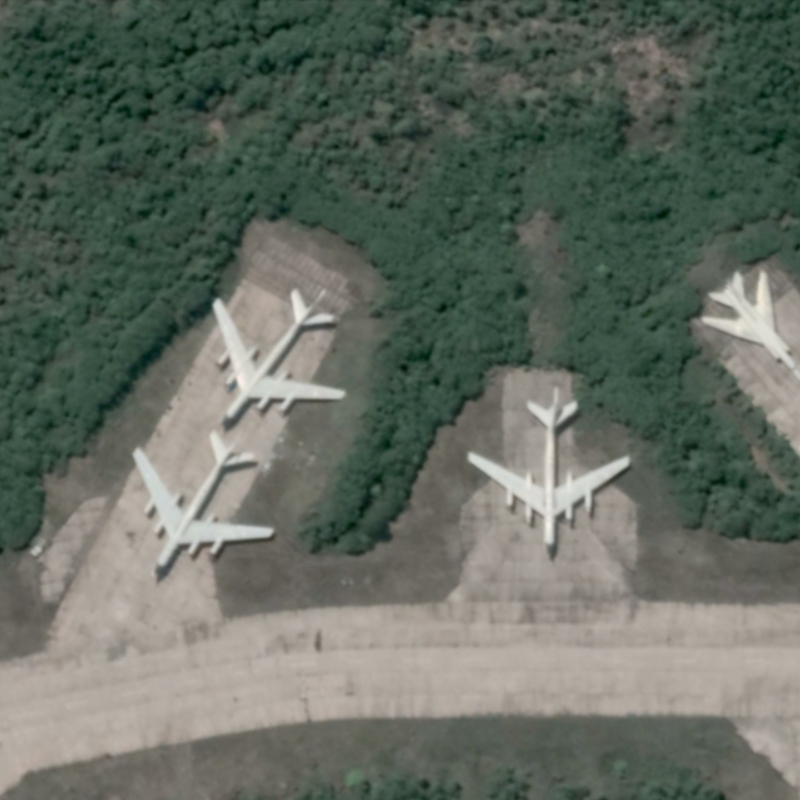A12: (696, 268, 800, 386)
A17: (461, 383, 636, 563), (126, 427, 277, 583), (204, 284, 351, 432)
